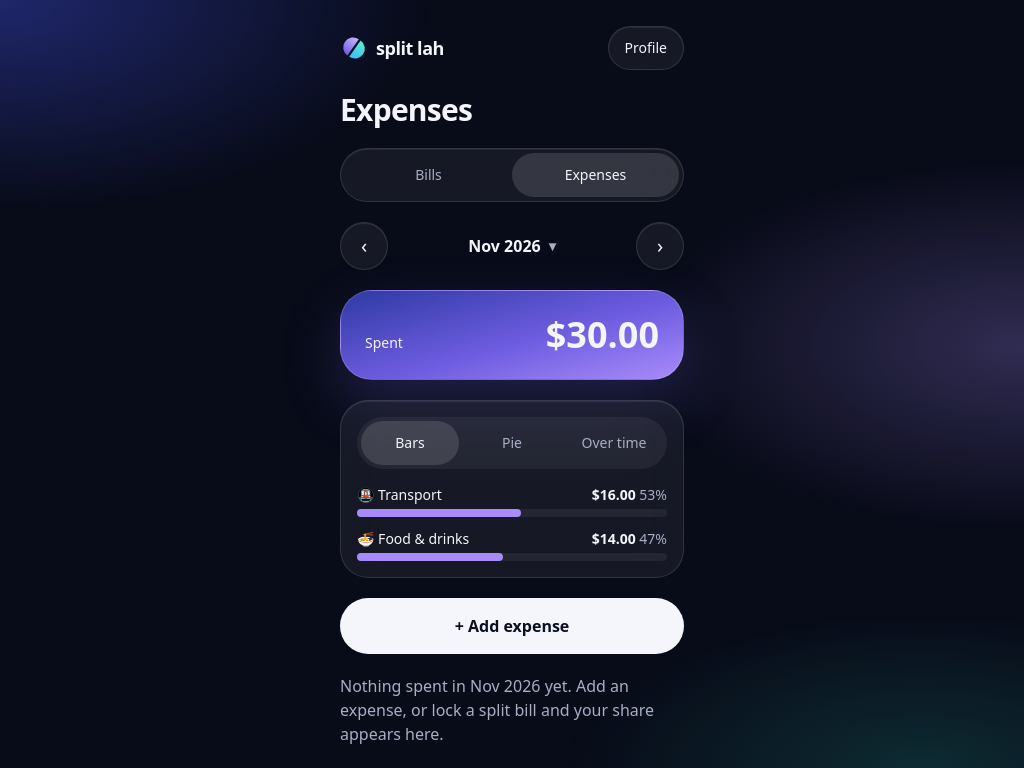
Expenses: choosing dates on the calendar › picks any first and last day, across months
What coordinates should you click on to do the following:
click the button "Nov 2026 ▾"
I would click on:
 (512, 246)
Its box is [452,224,572,268].
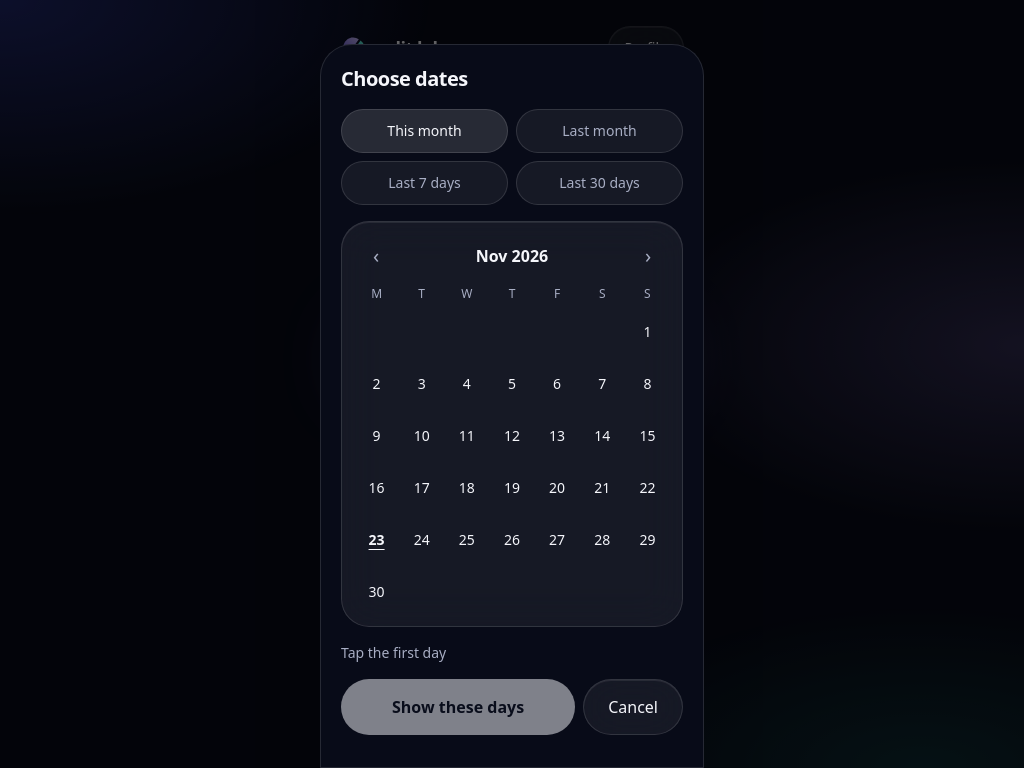
Check: the message reads "Tap the first day", box [341,643,446,662]
Check: the button "Show these days" is disabled, box [341,679,575,735]
What coordinates should you click on to do the following:
click the button named "Show the month before"
I would click on:
 (376, 256)
Its box is [354,234,398,278].
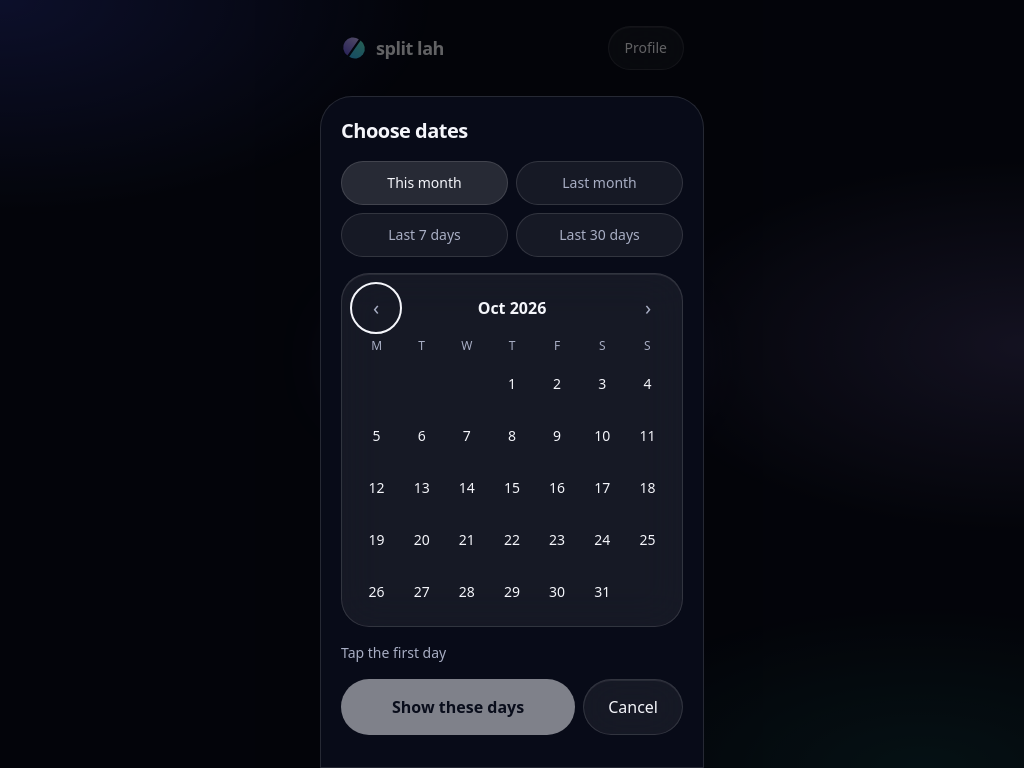
Check: the text "Oct 2026" is shown, box [478,296,546,320]
What coordinates should you click on to do the following:
click the button named "Wed 28 Oct"
I would click on:
 (467, 592)
Its box is [445,570,489,614].
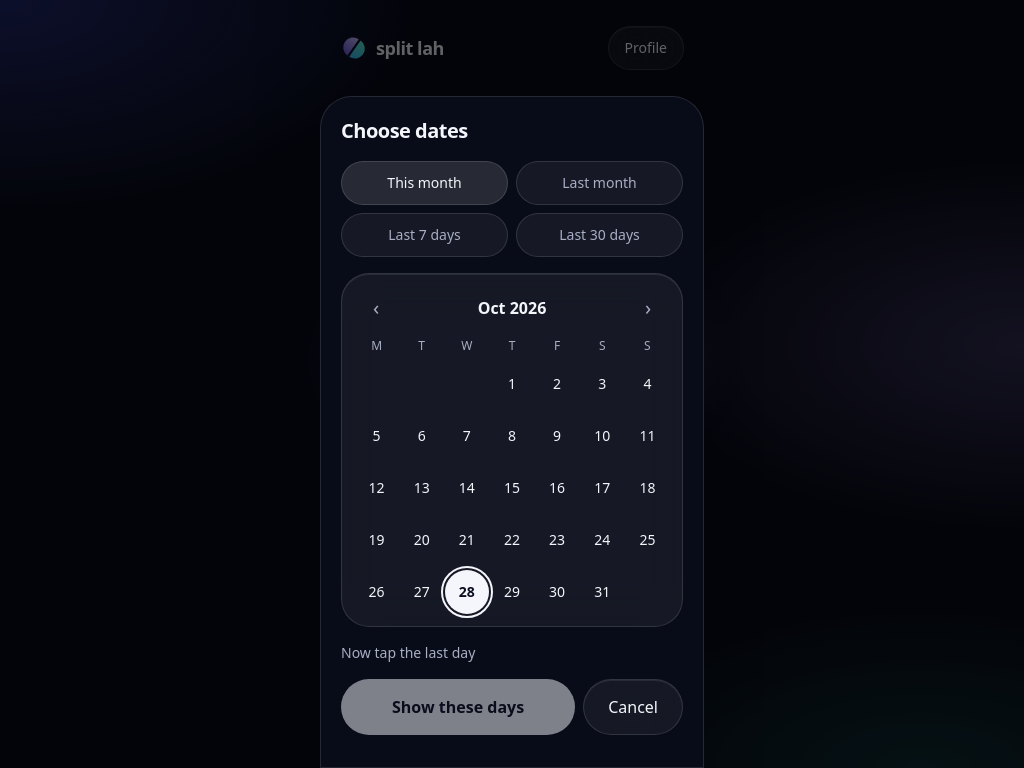
Check: the message reads "Now tap the last day", box [341,643,475,662]
What coordinates should you click on to do the following:
click the button named "Show the month after"
I would click on:
 (648, 308)
Its box is [626,286,670,330].
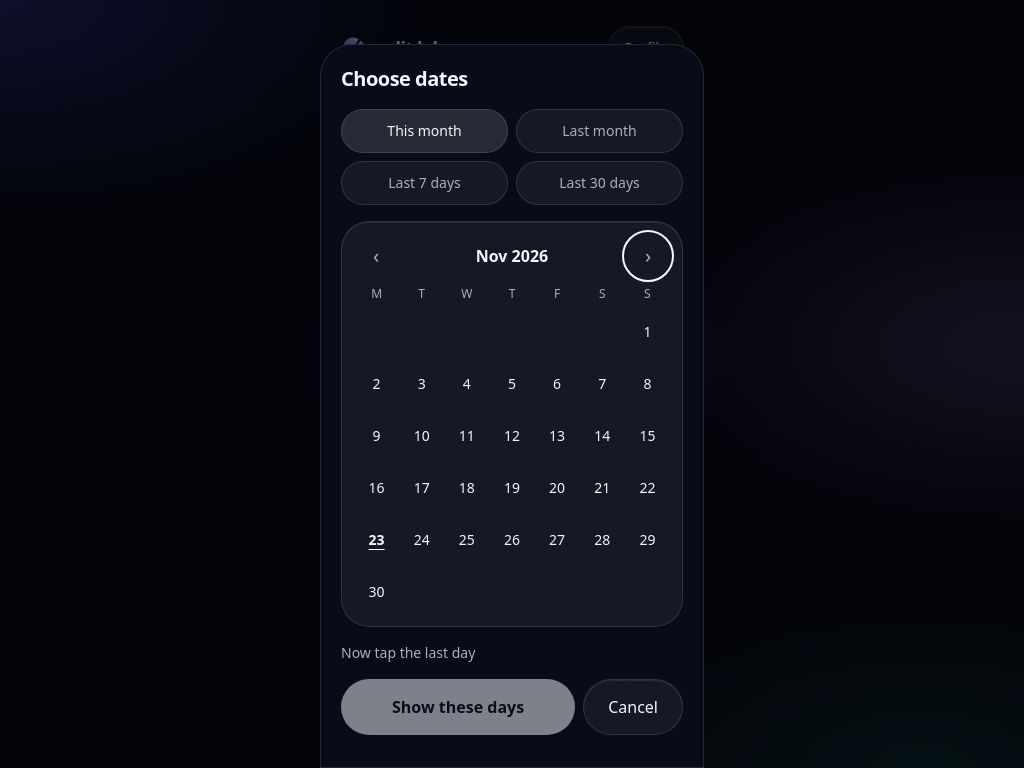
What coordinates should you click on to do the following:
click the button named "Tue 3 Nov"
I would click on:
 (422, 384)
Its box is [400,362,444,406].
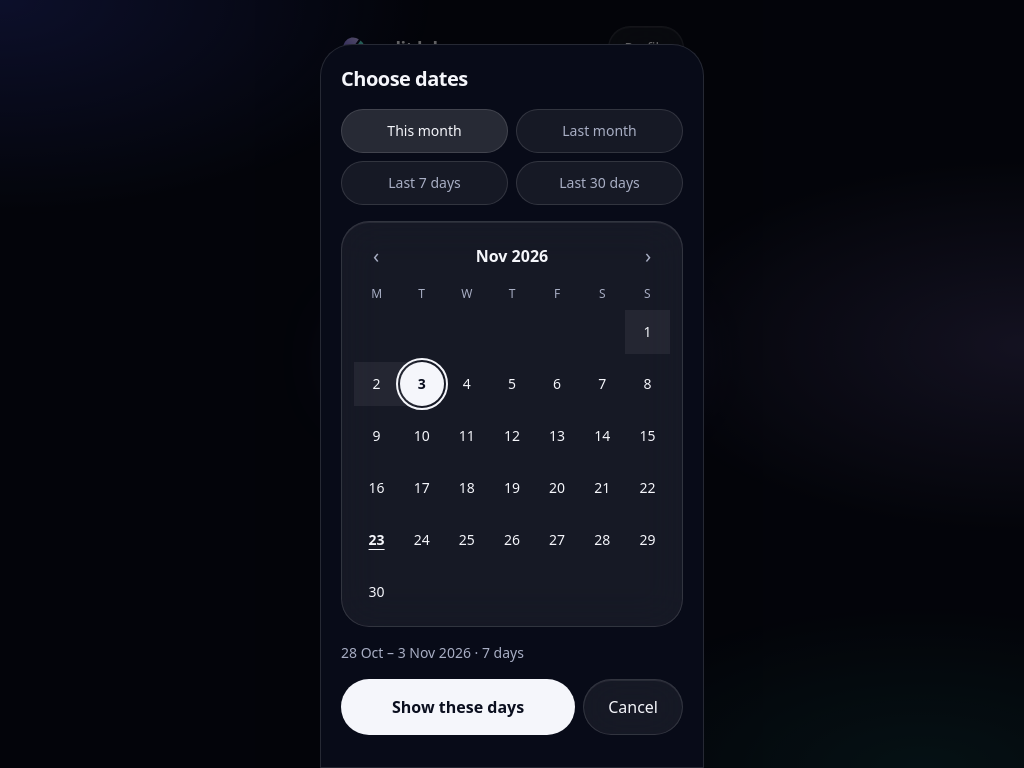
Check: the message reads "28 Oct – 3 Nov 2026 · 7 days", box [341,643,524,662]
What coordinates should you click on to do the following:
click the button "Show these days"
I would click on:
 (458, 707)
Its box is [341,679,575,735].
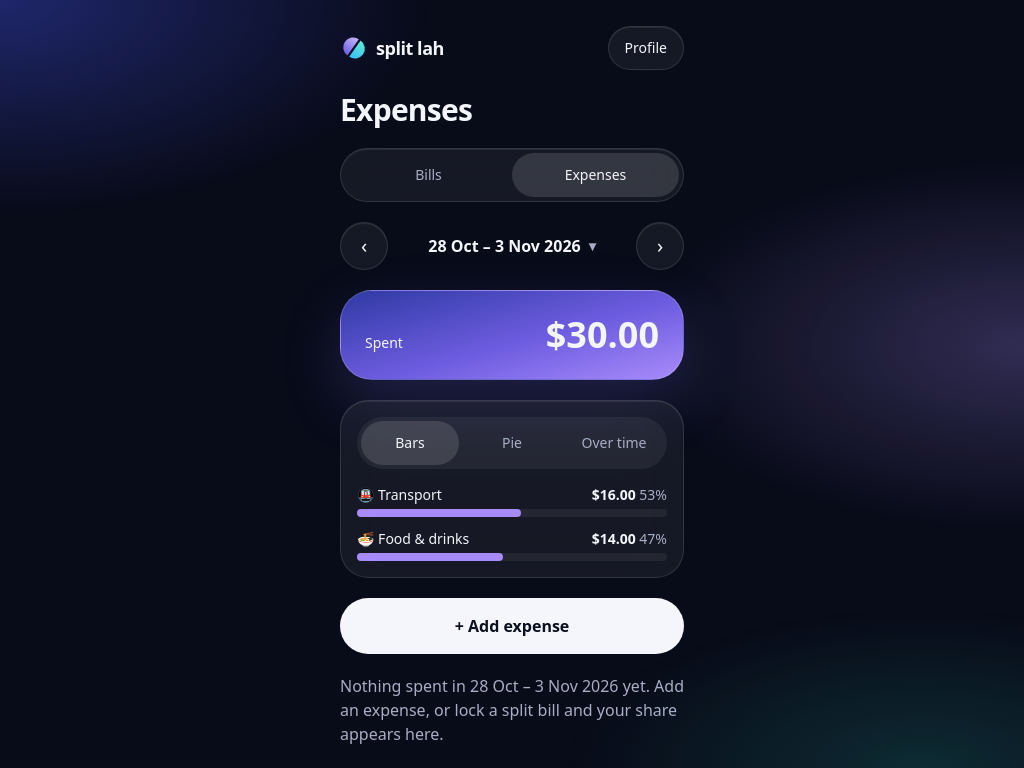
Check: the heading "28 Oct – 3 Nov 2026 ▾" is shown, box [412,224,612,268]
